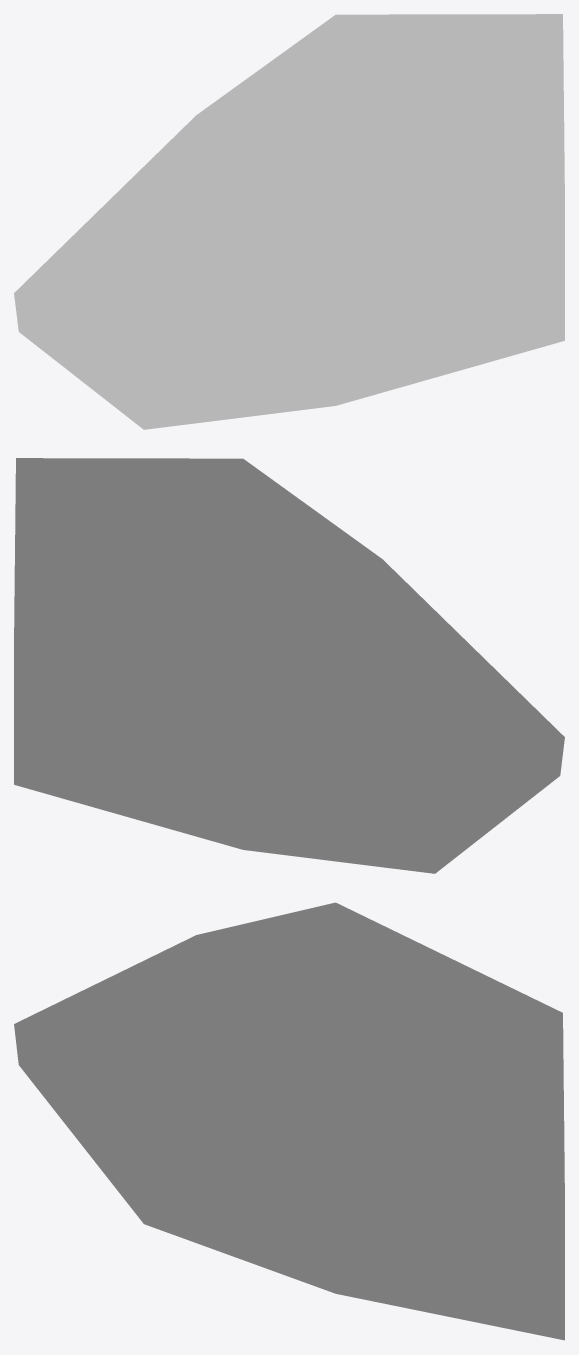
The model's file is mesh_world_cloud_3_cloud01.FBX.
3 renders of one model, top to bottom at view 1: azimuth 30°, elevation 25°; view 2: azimuth 150°, elevation 25°; view 3: azimuth 330°, elevation 25°, orthographic.
Parts seen in each view (by area): view 1: mesh_world_cloud_3_cloud01; view 2: mesh_world_cloud_3_cloud01; view 3: mesh_world_cloud_3_cloud01.
Boxes of the visible parts, left/top/right/bottom form: mesh_world_cloud_3_cloud01: left=14, top=14, right=564, bottom=429; mesh_world_cloud_3_cloud01: left=14, top=458, right=564, bottom=873; mesh_world_cloud_3_cloud01: left=14, top=902, right=564, bottom=1340.
Bounding box in the file's own units: 18.03 × 12.23 × 2.72e-06.
1 material, 1 textured.
